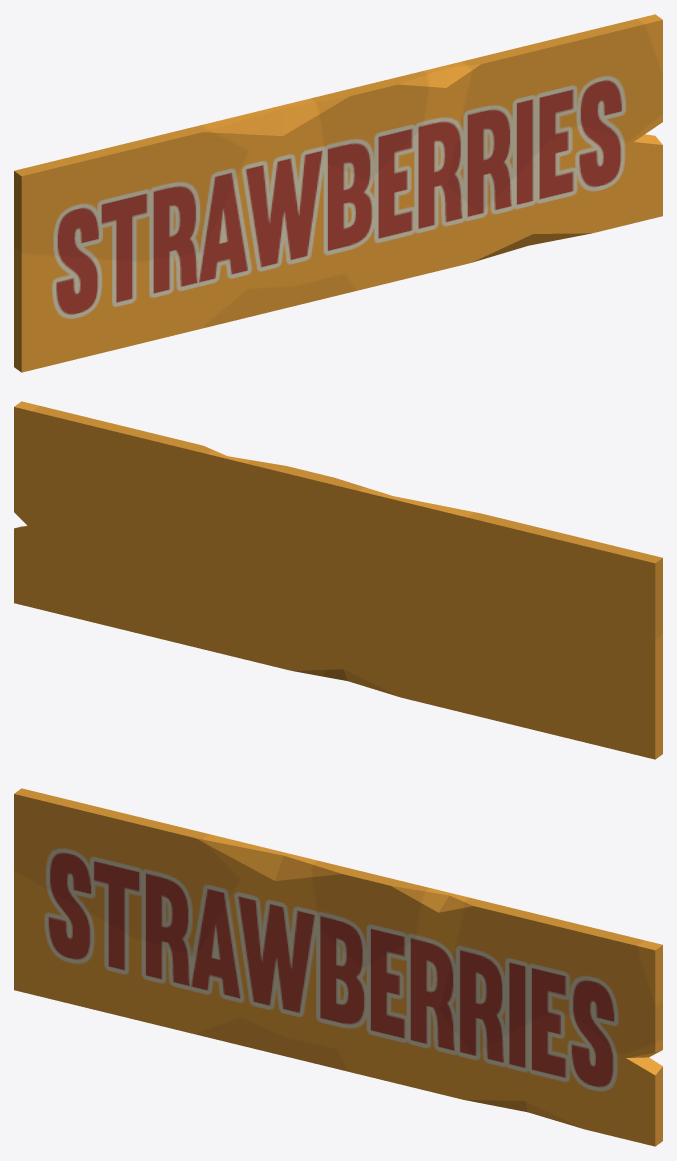
The model's file is SM_Prop_Sign_Strawberries_01.fbx.
The picture shows the model from 3 angles, top to bottom: view 1: azimuth 30°, elevation 25°; view 2: azimuth 150°, elevation 25°; view 3: azimuth 330°, elevation 25°; orthographic projection.
Visible parts, largest first — view 1: SM_Prop_Sign_Strawberries_01; view 2: SM_Prop_Sign_Strawberries_01; view 3: SM_Prop_Sign_Strawberries_01.
Boxes of the visible parts, bbox=[...] form: SM_Prop_Sign_Strawberries_01: bbox=[14, 14, 662, 372]; SM_Prop_Sign_Strawberries_01: bbox=[14, 401, 662, 759]; SM_Prop_Sign_Strawberries_01: bbox=[14, 788, 662, 1146].
Bounding box in the file's own units: 117 × 34.18 × 2.41.
